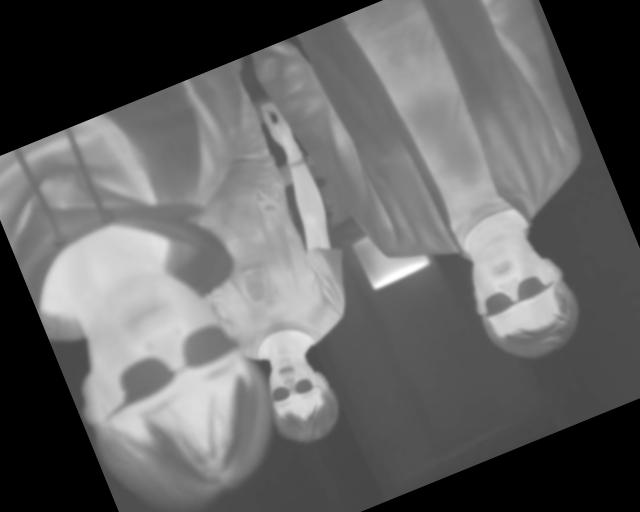face: (45, 245, 298, 512), (451, 217, 592, 374), (252, 339, 352, 454)
